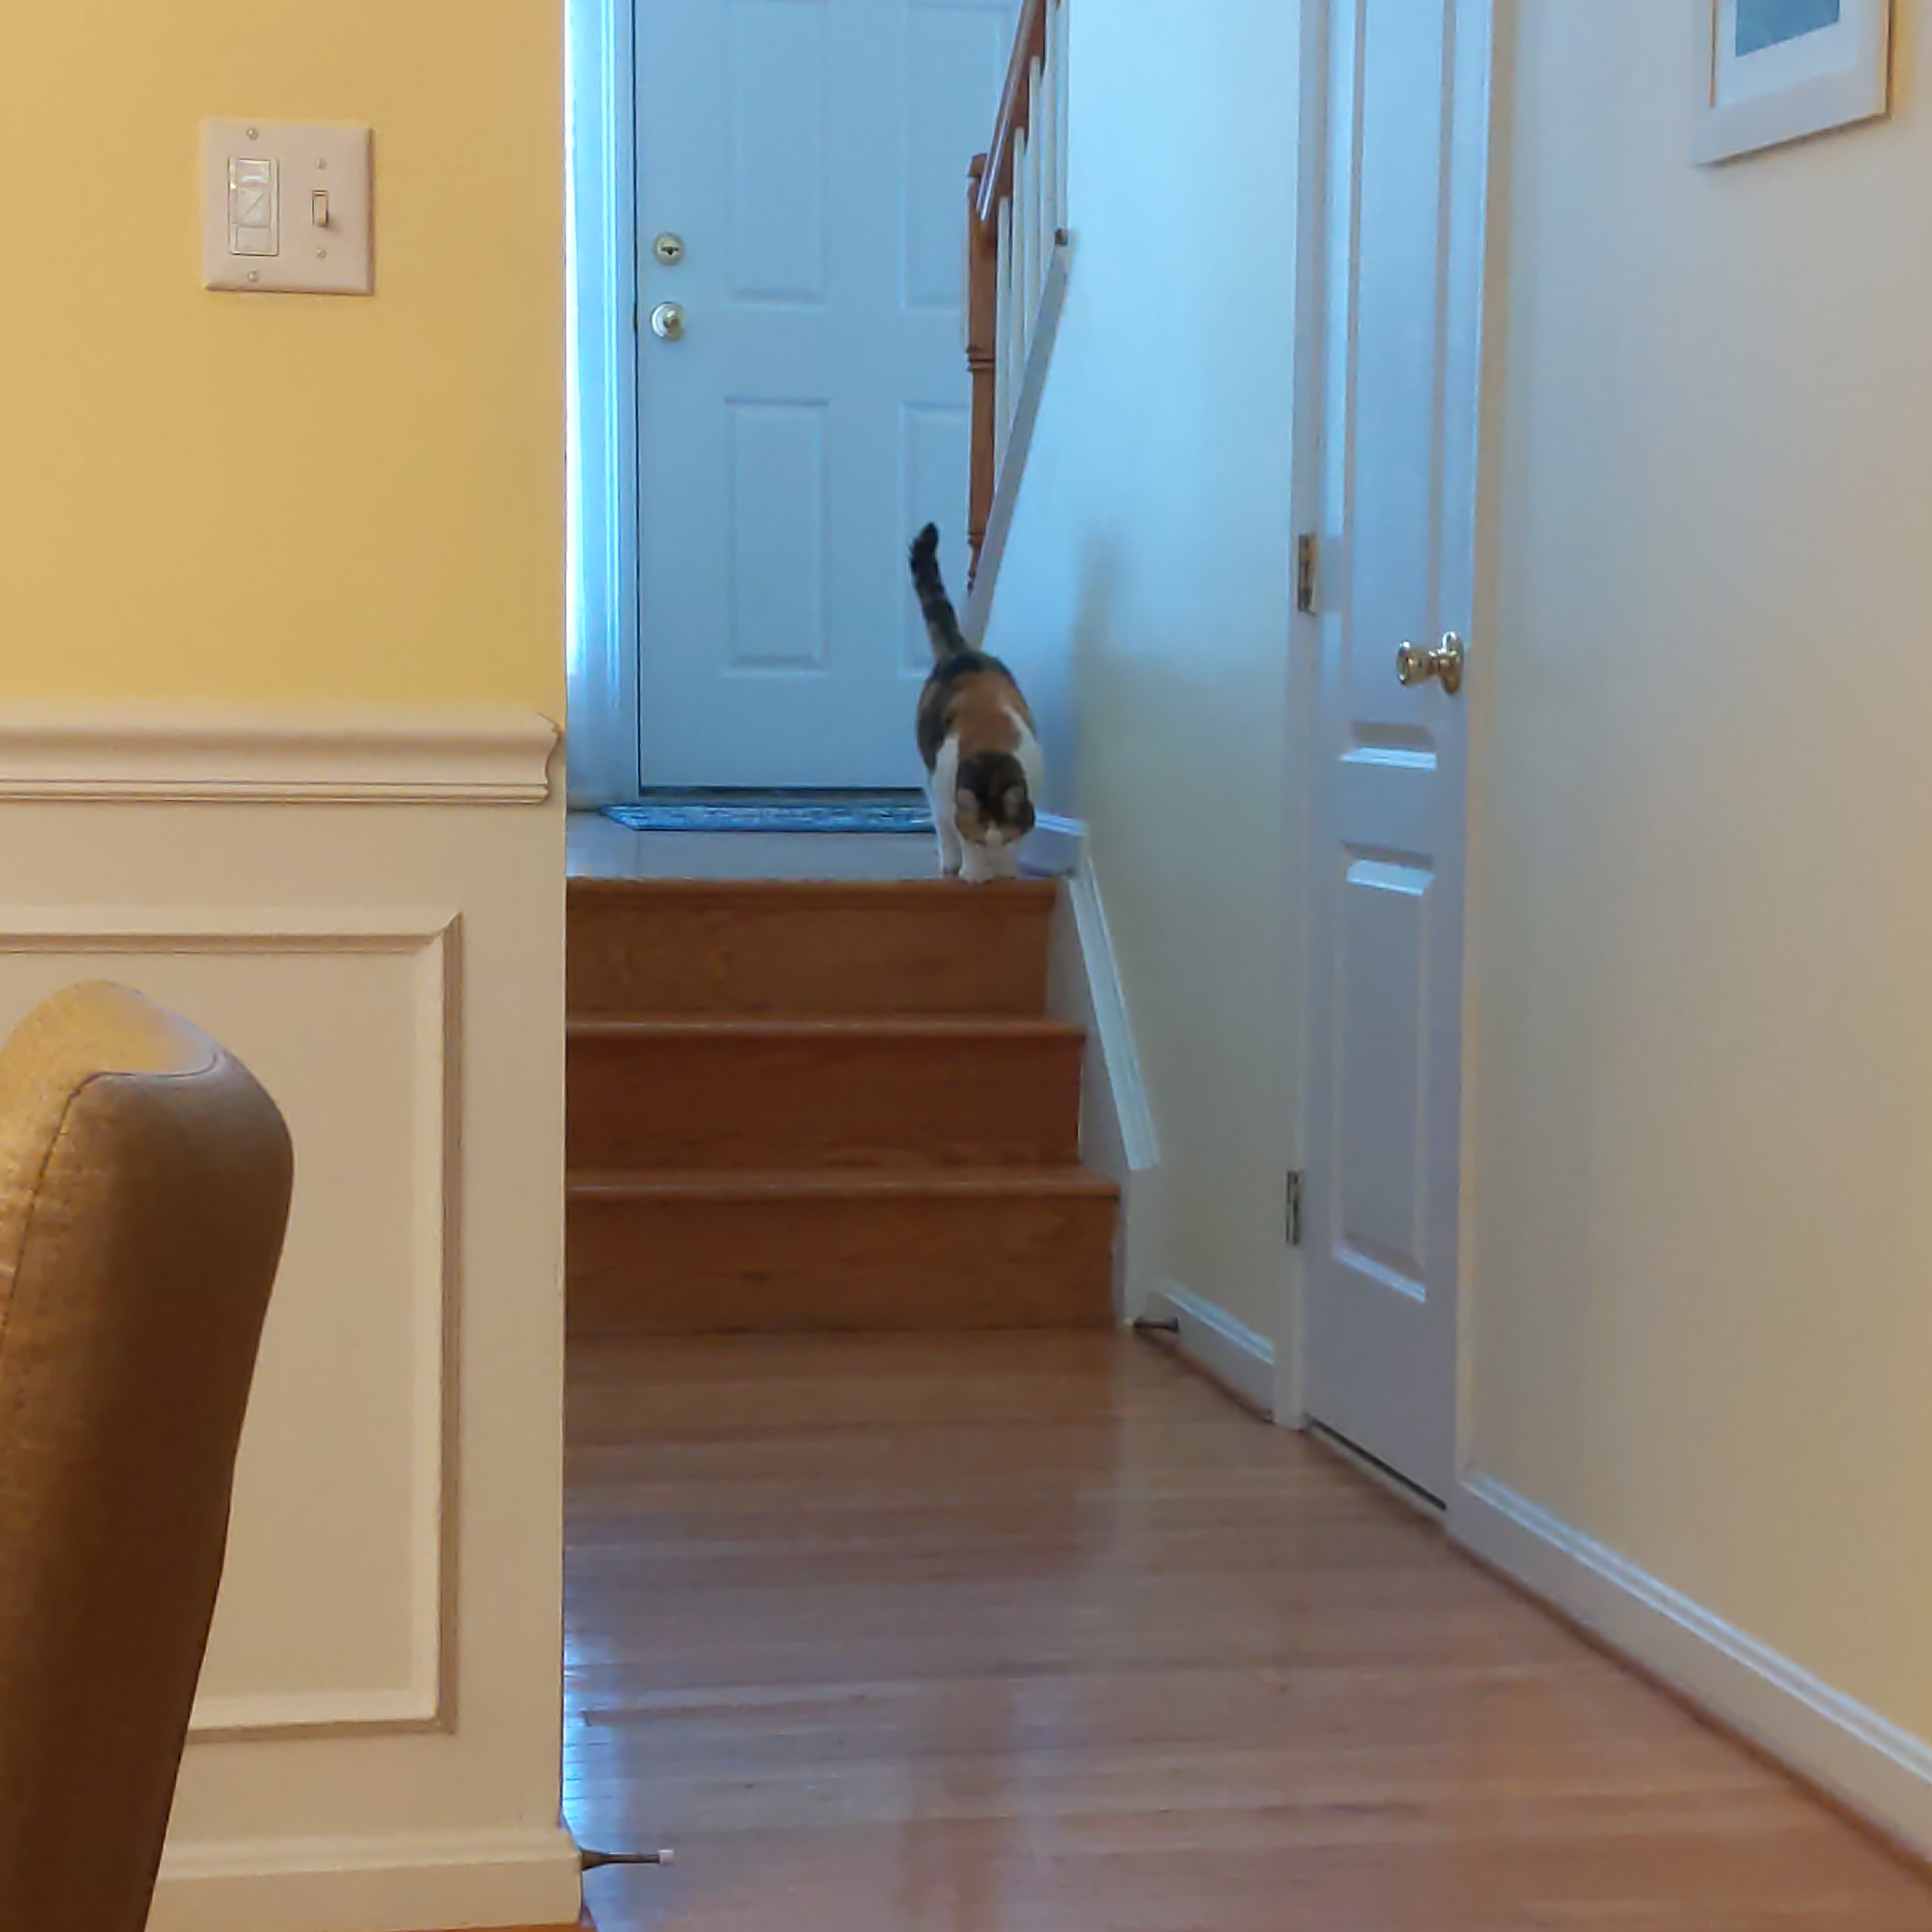Calico: (911, 522, 1044, 883)
